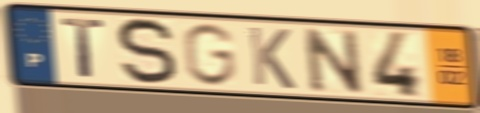4: (369, 30, 426, 100)
G: (179, 21, 238, 89)
K: (245, 24, 298, 92)
N: (299, 25, 367, 95)
S: (114, 15, 181, 88)
T: (57, 15, 108, 80)
